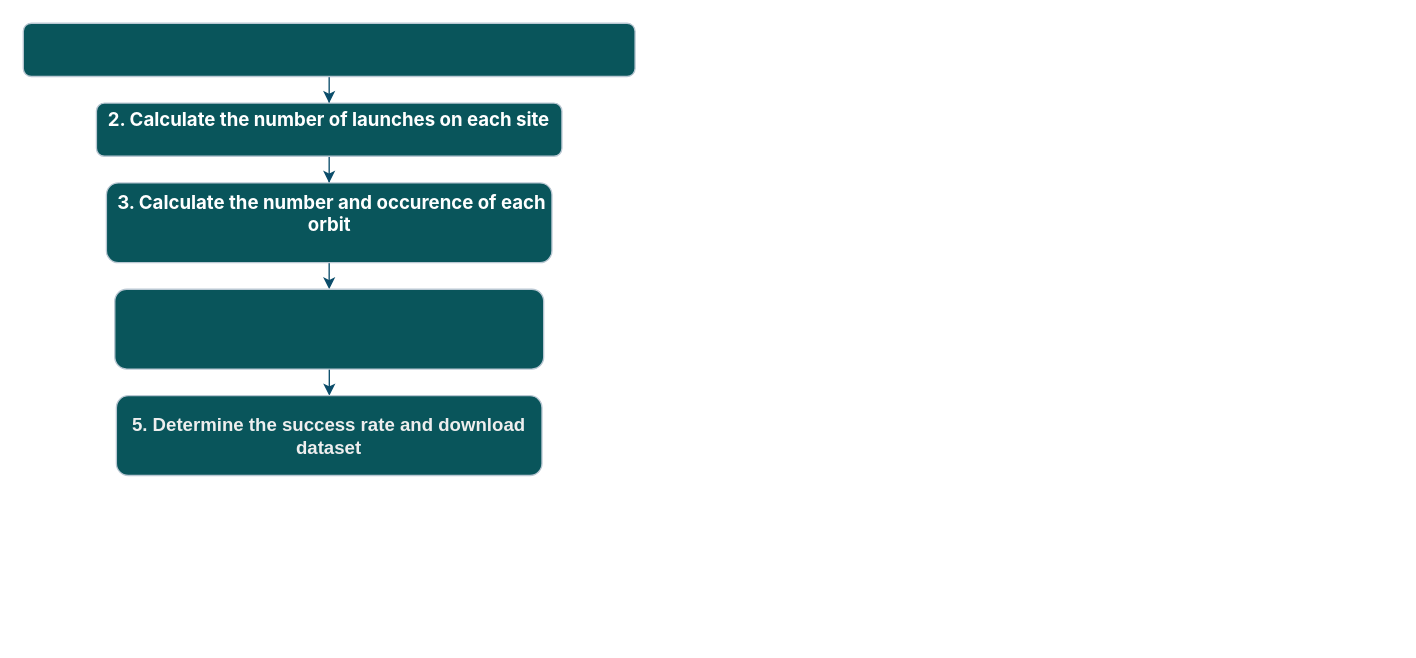
Image size: 1416x658. Some labels were removed from this diagram. Here are the shapes that lost their labels. From the top down, the box of each, then its label:
(22, 22, 635, 76): 1. Identify and calculate the percentage of the missing values in each attribute
(113, 288, 544, 369): 4. Create a landing outcome label from Outcome column
